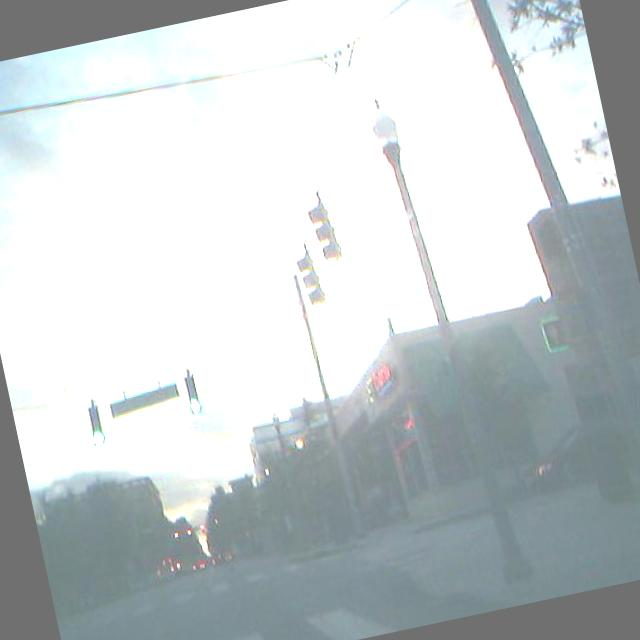Vehicle: (526, 426, 592, 489), (188, 552, 210, 574)
